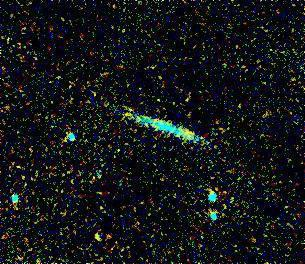star: (176, 120, 206, 150)
